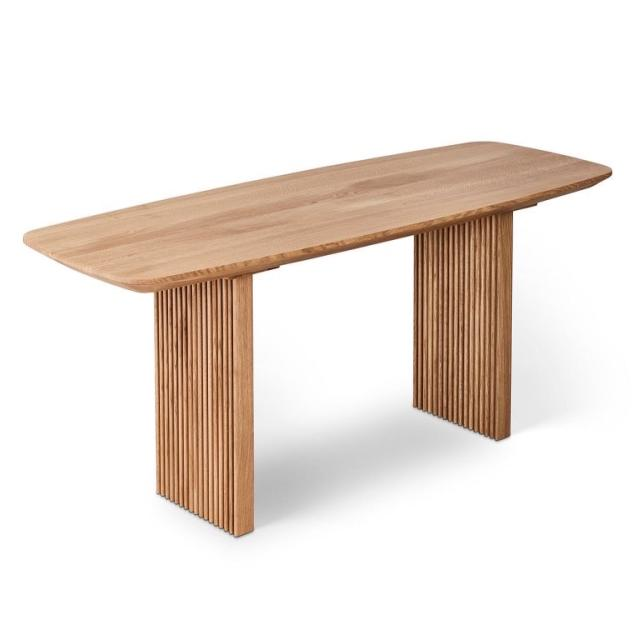table: (21, 101, 622, 552)
